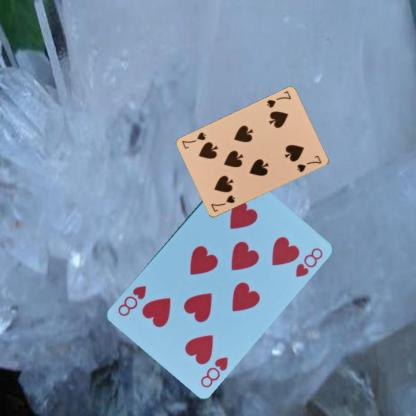7s: (208, 192, 236, 214), (264, 88, 292, 110)
8h: (198, 354, 230, 388)
